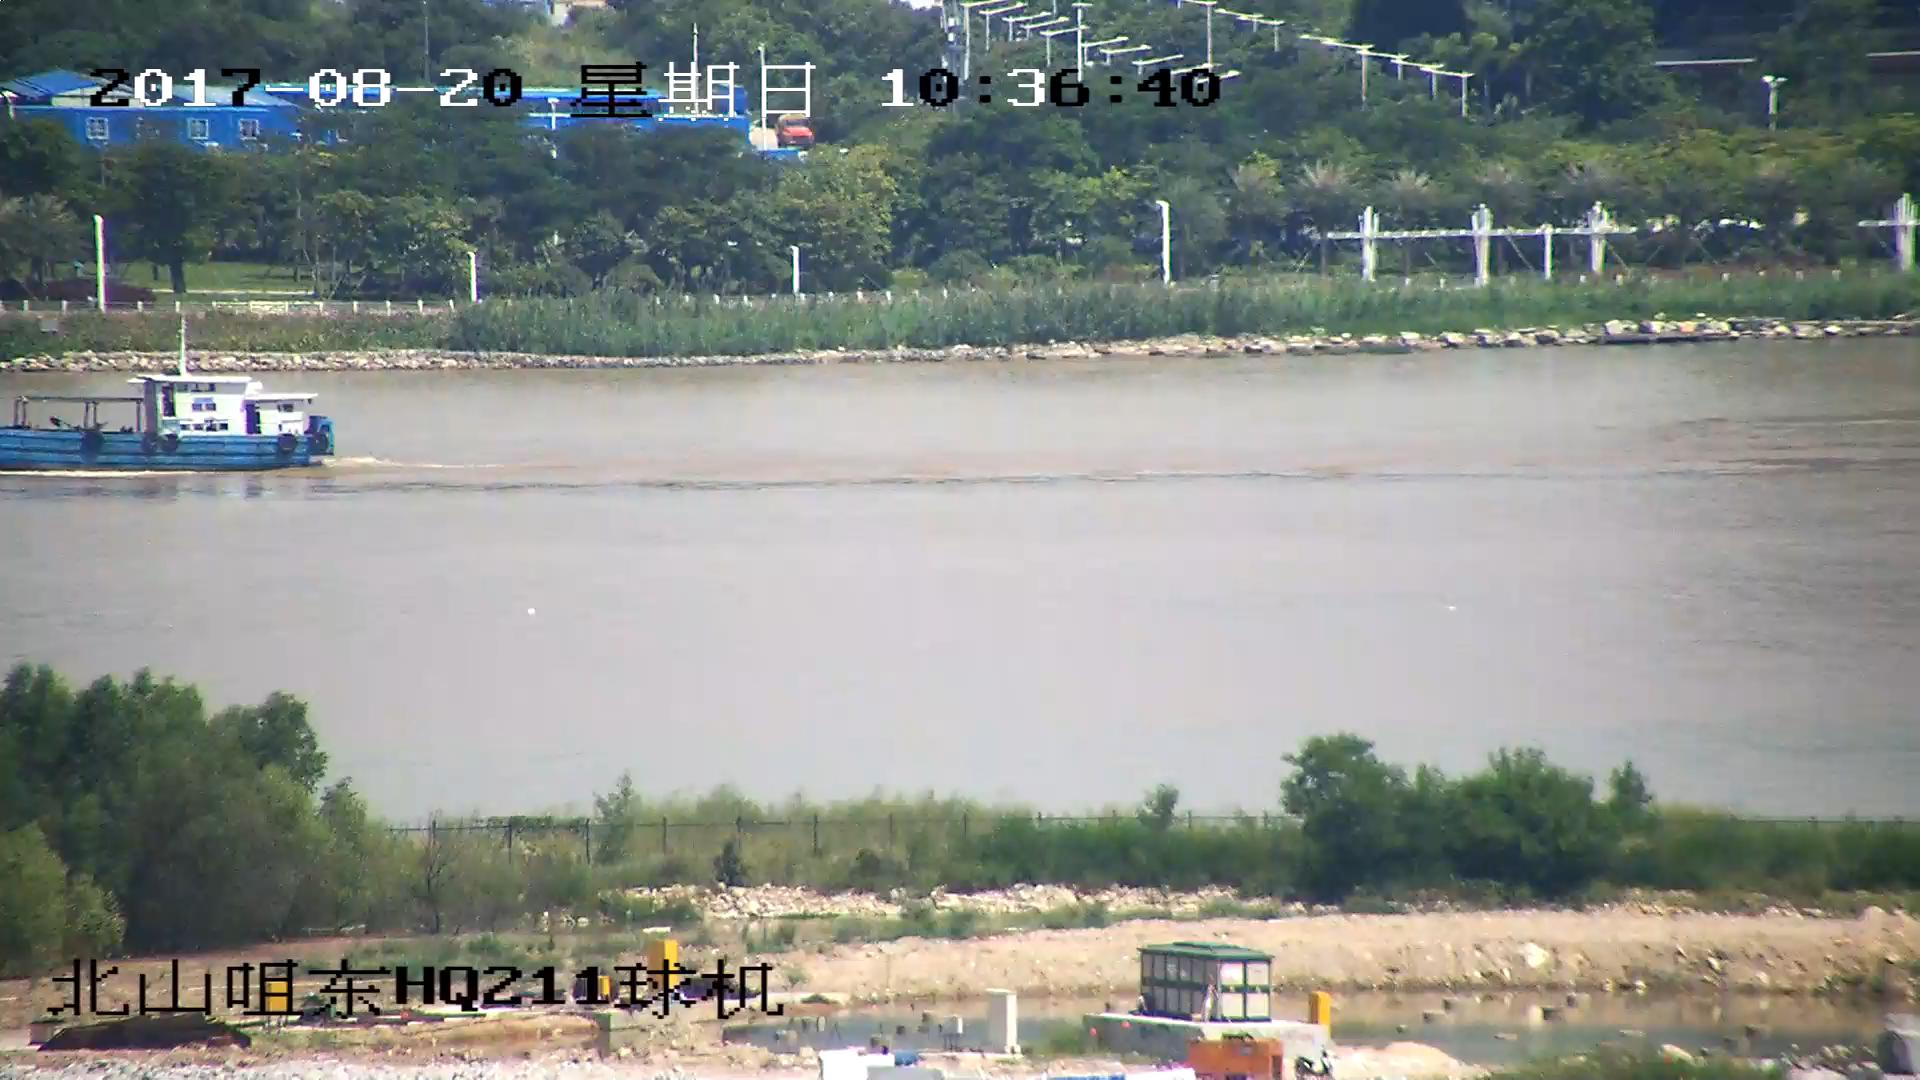fishing boat: (1, 322, 338, 476)
